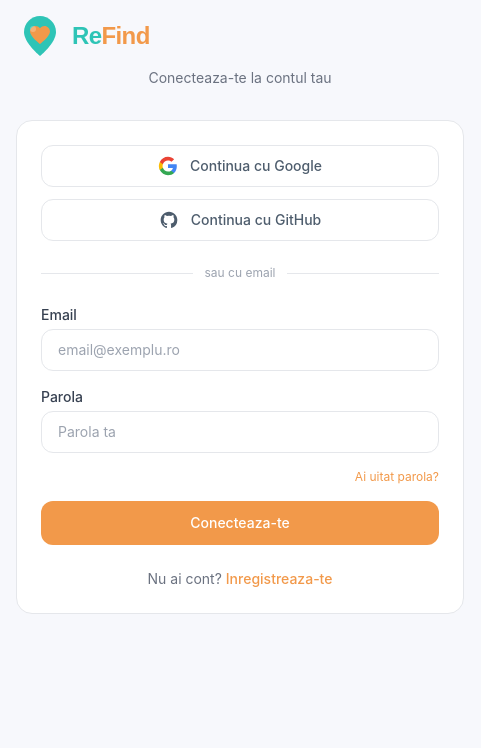
it: Auth Page › shows password mismatch error on register
The image size is (481, 748).
Click the button "Inregistreaza-te". click: [279, 579]
box: x1=226 y1=569 x2=332 y2=589
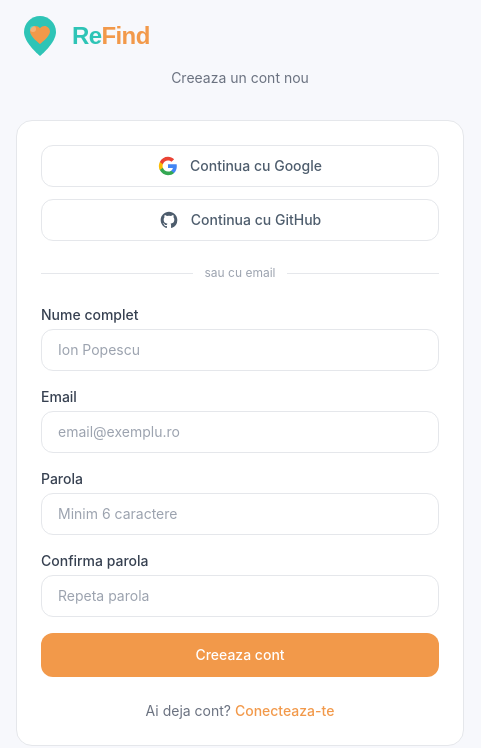
Type "Test User" into the field with placeholder "Ion Popescu". click: [240, 350]
box: x1=41 y1=329 x2=439 y2=371
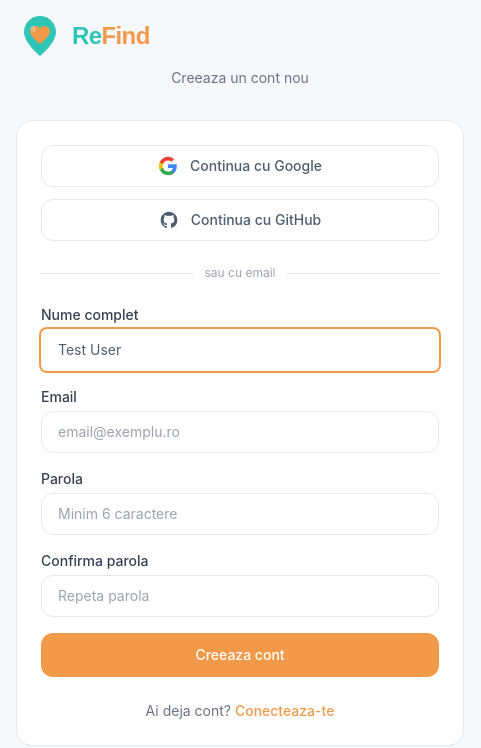
Type "test@test.ro" into the field with placeholder "email@exemplu.ro". click: [240, 432]
box: x1=41 y1=411 x2=439 y2=453
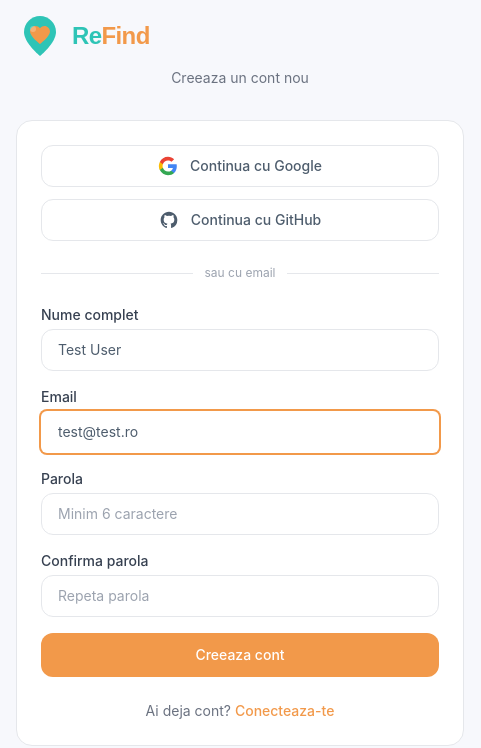
Type "password123" into the password field with placeholder "Minim 6 caractere". click: [240, 514]
box: x1=41 y1=493 x2=439 y2=535
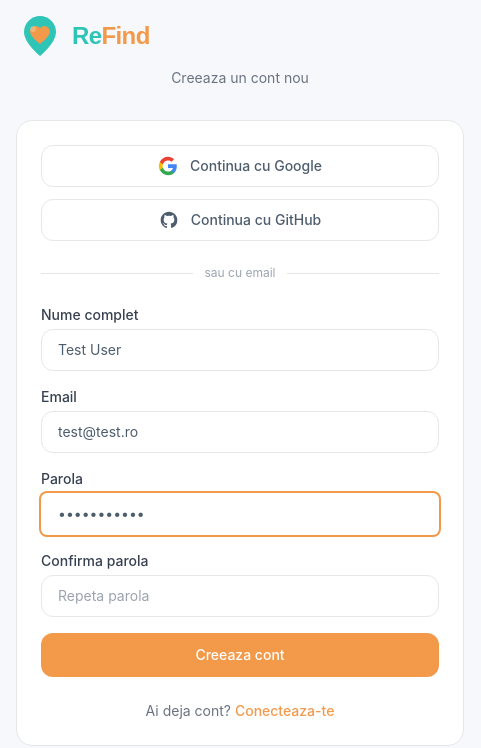
Type "different" into the password field with placeholder "Repeta parola". click: [240, 596]
box: x1=41 y1=575 x2=439 y2=617
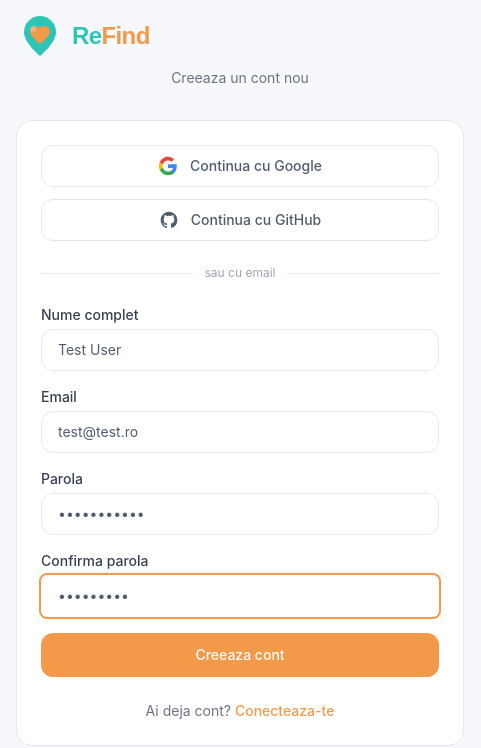
Click the button "Creeaza cont". click: [240, 655]
box: x1=41 y1=633 x2=439 y2=677
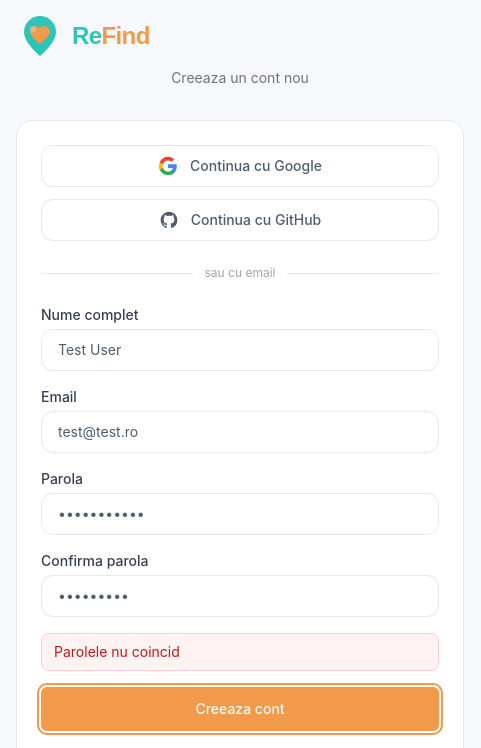
Expected: the text "Parolele nu coincid" is shown, x1=41 y1=633 x2=439 y2=671
